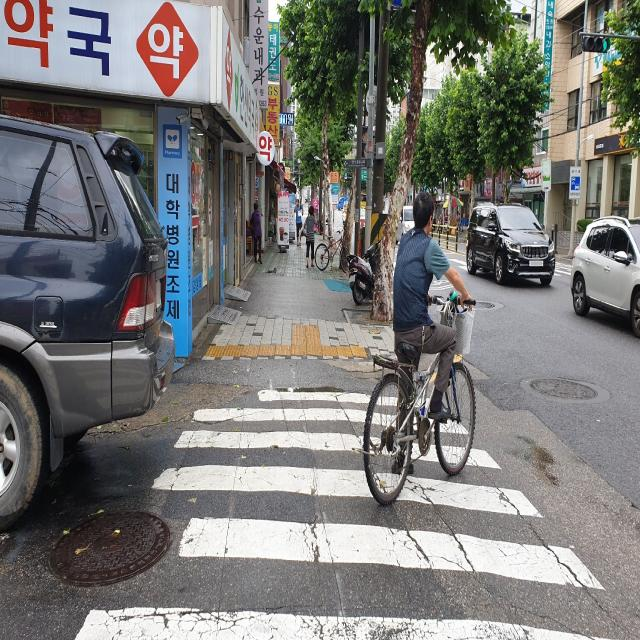횡단보도: (75, 390, 606, 640)
